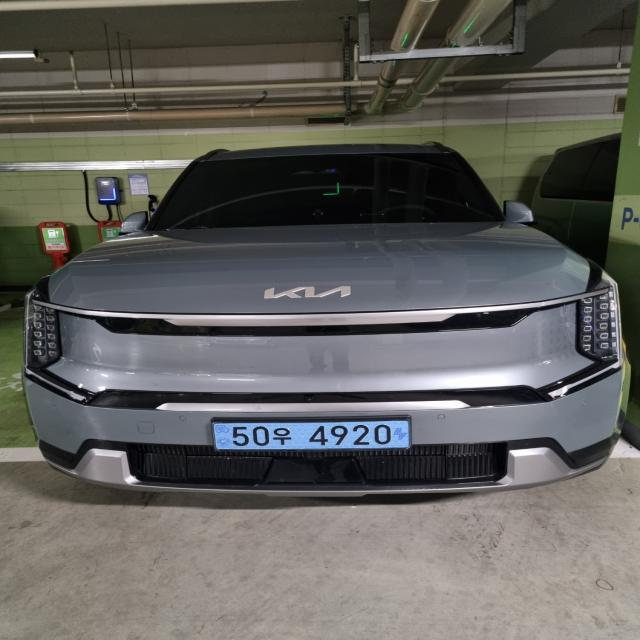car: (185, 407, 438, 467)
carev: (387, 417, 419, 455), (212, 416, 233, 456)
